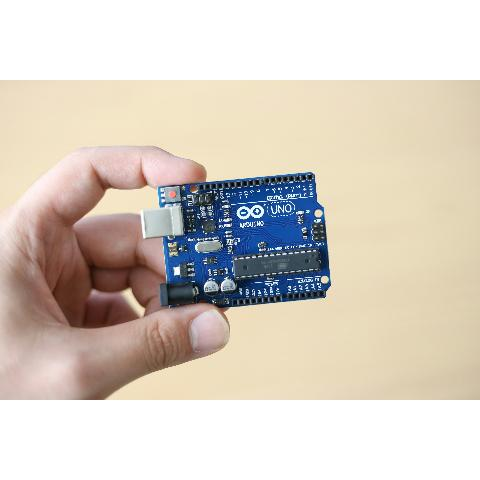Arduino-Uno: (140, 168, 334, 308)
